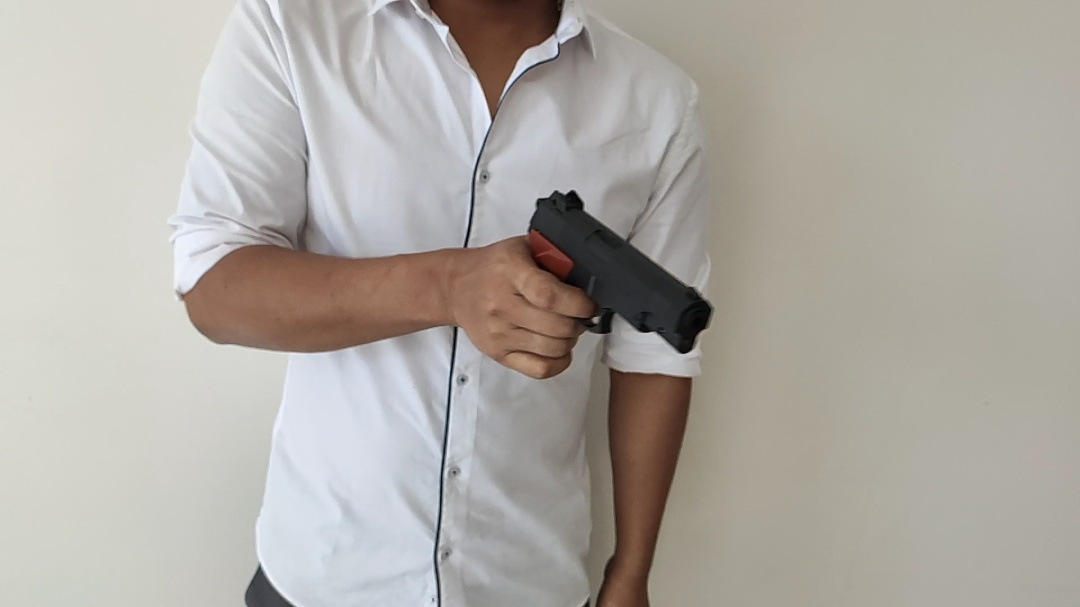gun: (521, 182, 717, 359)
